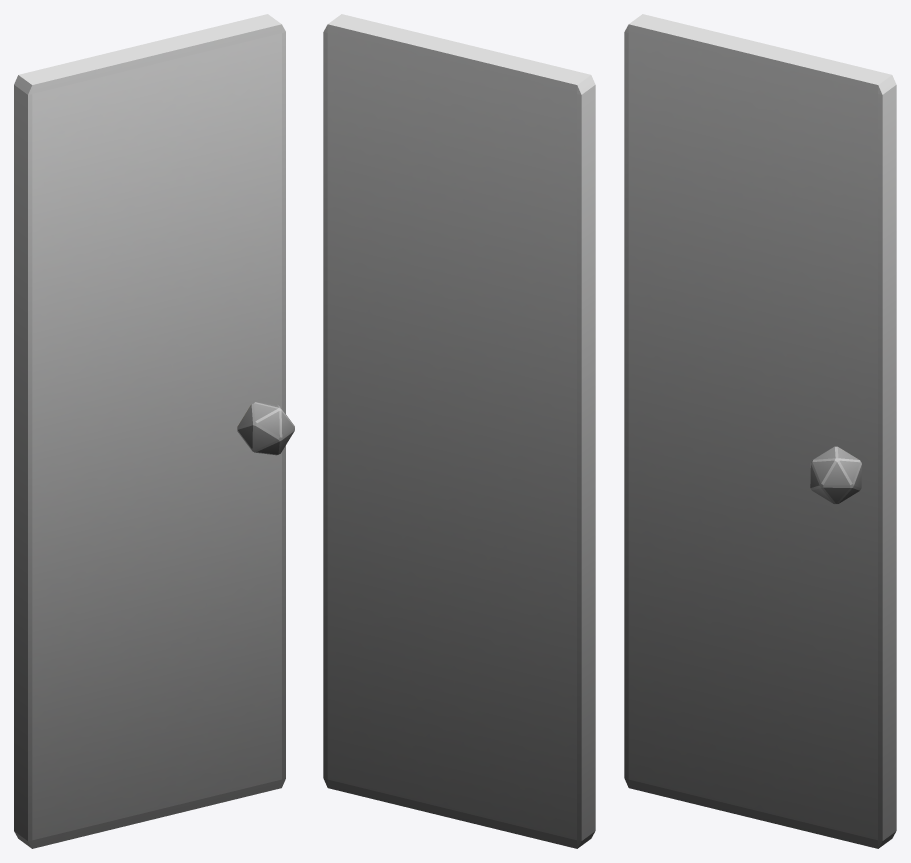
Rendered from DoorOpen.fbx.
3 renders of one model, left to right at view 1: azimuth 30°, elevation 25°; view 2: azimuth 150°, elevation 25°; view 3: azimuth 330°, elevation 25°, orthographic.
Parts seen in each view (by area): view 1: Door, DoorHandle; view 2: Door; view 3: Door, DoorHandle.
Boxes of the visible parts, left/top/right/bottom form: Door: left=14, top=14, right=285, bottom=848; DoorHandle: left=237, top=402, right=294, bottom=455; Door: left=323, top=14, right=595, bottom=848; Door: left=624, top=14, right=896, bottom=848; DoorHandle: left=810, top=446, right=861, bottom=504.
Size of the model in its own units: 166 by 469 by 46.48.
1 material, 1 textured.
